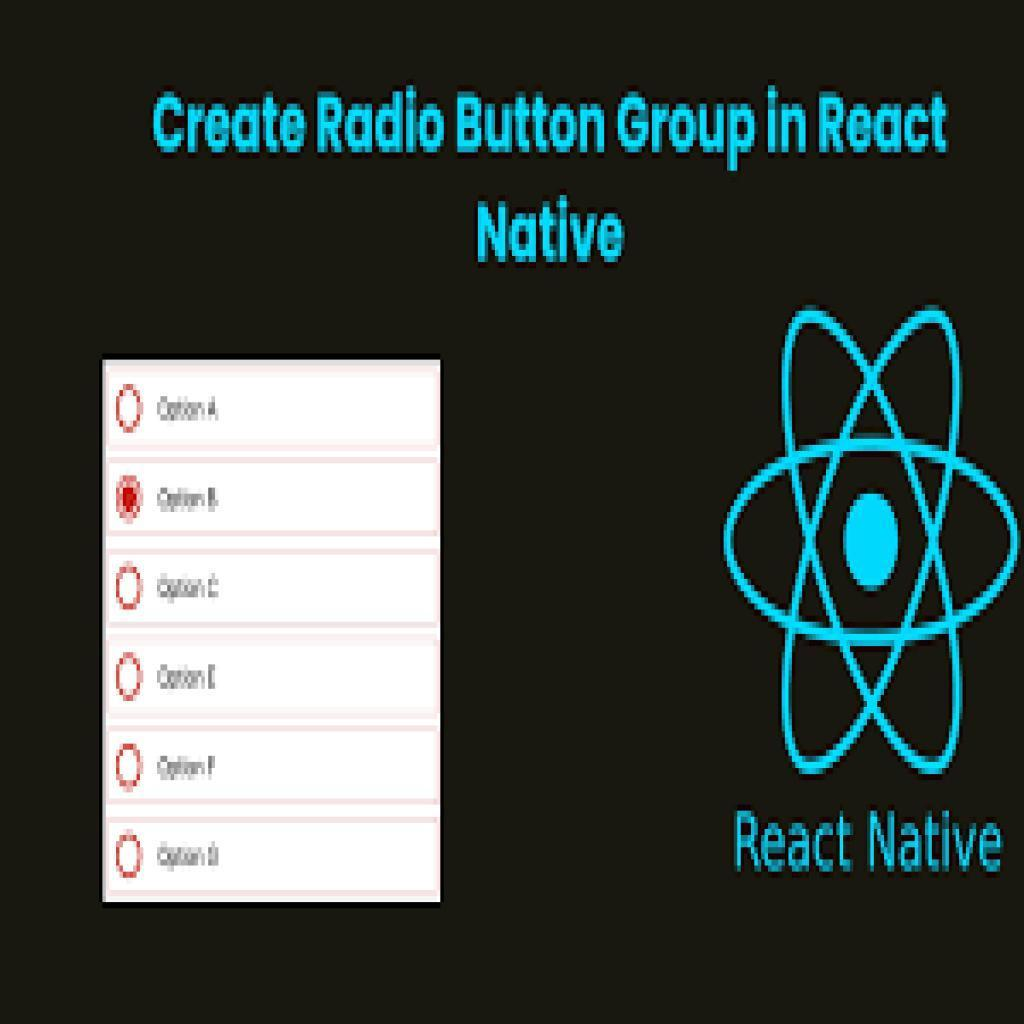radio: (113, 557, 148, 611), (113, 383, 148, 435), (114, 473, 148, 525), (114, 741, 146, 793), (114, 652, 146, 703), (114, 831, 147, 880)
